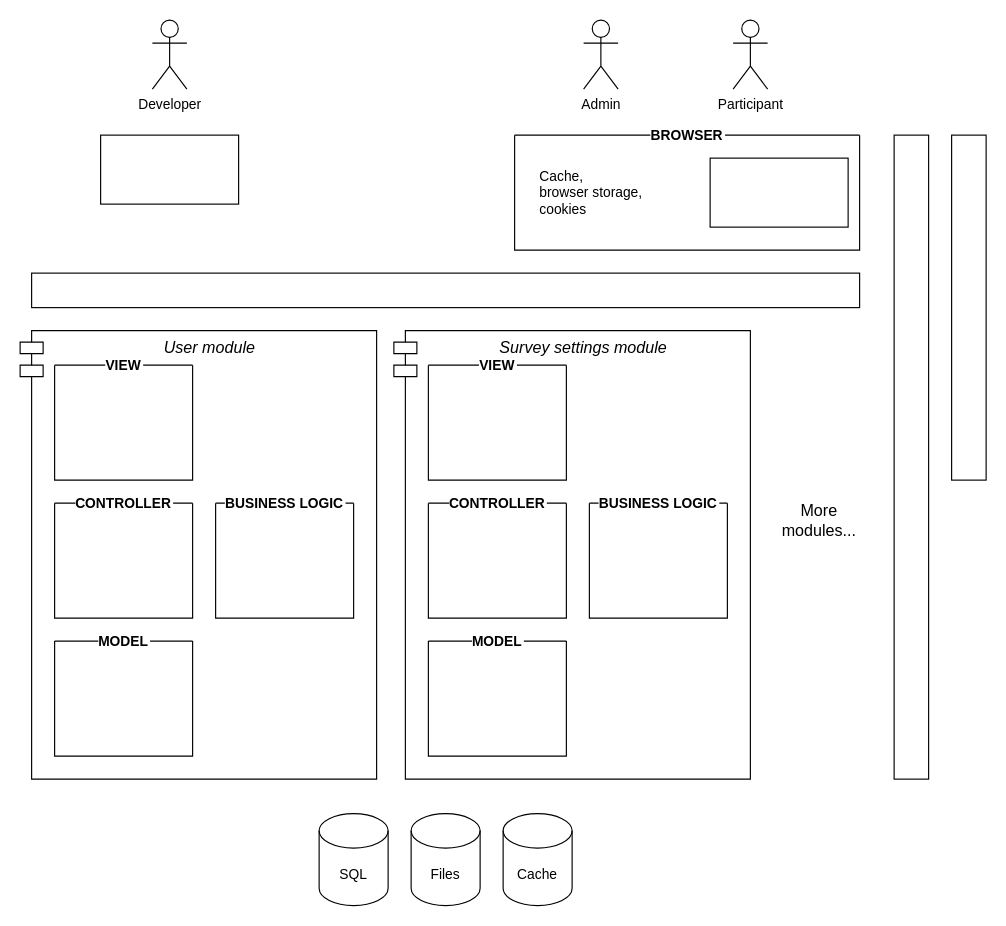
Some shapes in this 1006 by 926 pixel diagram are drawn without their labels. Each missing label, with the centre of its shape:
Http Request: (445,290)
JavaScript: (778,192)
Local machine: (169,169)
Vue: (968,307)
Yii: (911,456)
